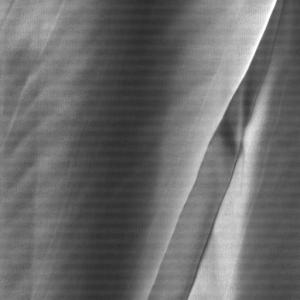Wrinkle: (137, 1, 300, 300), (1, 1, 117, 300)
